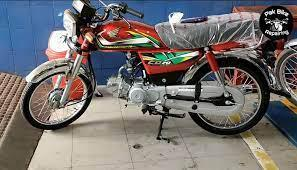bike: (18, 1, 271, 143), (275, 34, 297, 119)
